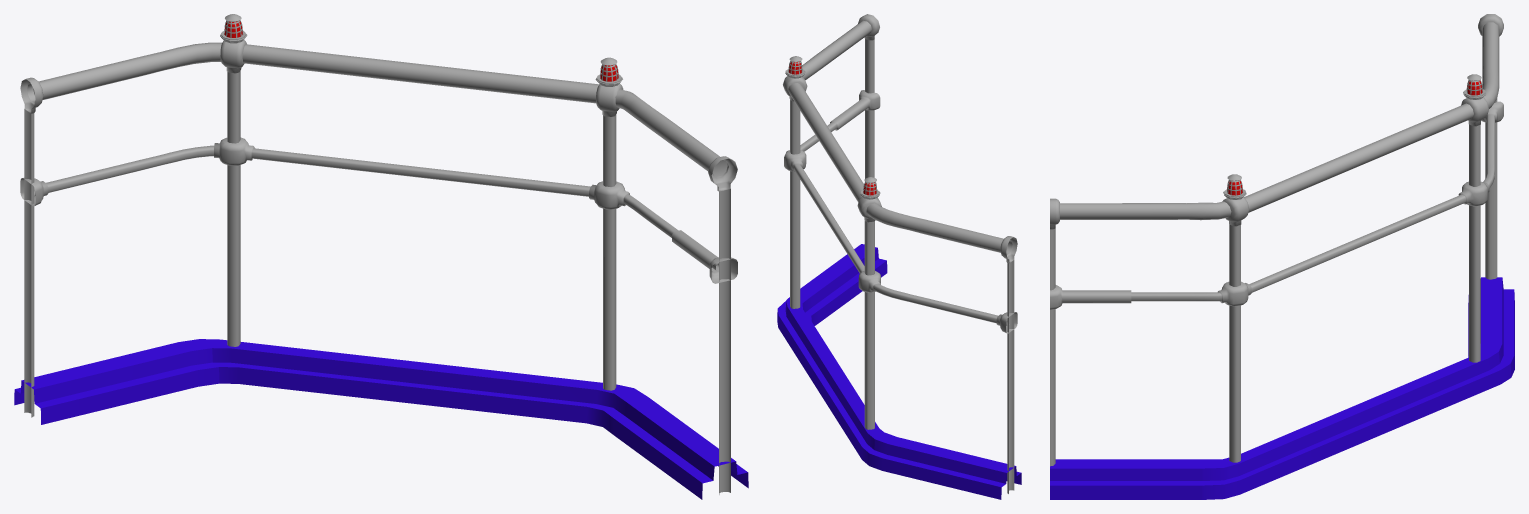
The model's file is corner.fbx.
3 renders of one model, left to right at view 1: azimuth 30°, elevation 25°; view 2: azimuth 150°, elevation 25°; view 3: azimuth 270°, elevation 25°, orthographic. The views are drawn at different scales.
Parts seen in each view (by area): view 1: RailingFence; view 2: RailingFence; view 3: RailingFence.
Boxes of the visible parts, x1=… form: RailingFence: x1=14, y1=14, x2=748, y2=499; RailingFence: x1=777, y1=14, x2=1021, y2=499; RailingFence: x1=1050, y1=14, x2=1514, y2=499.
Size of the model in its own units: 1.78 by 1.32 by 1.78.
